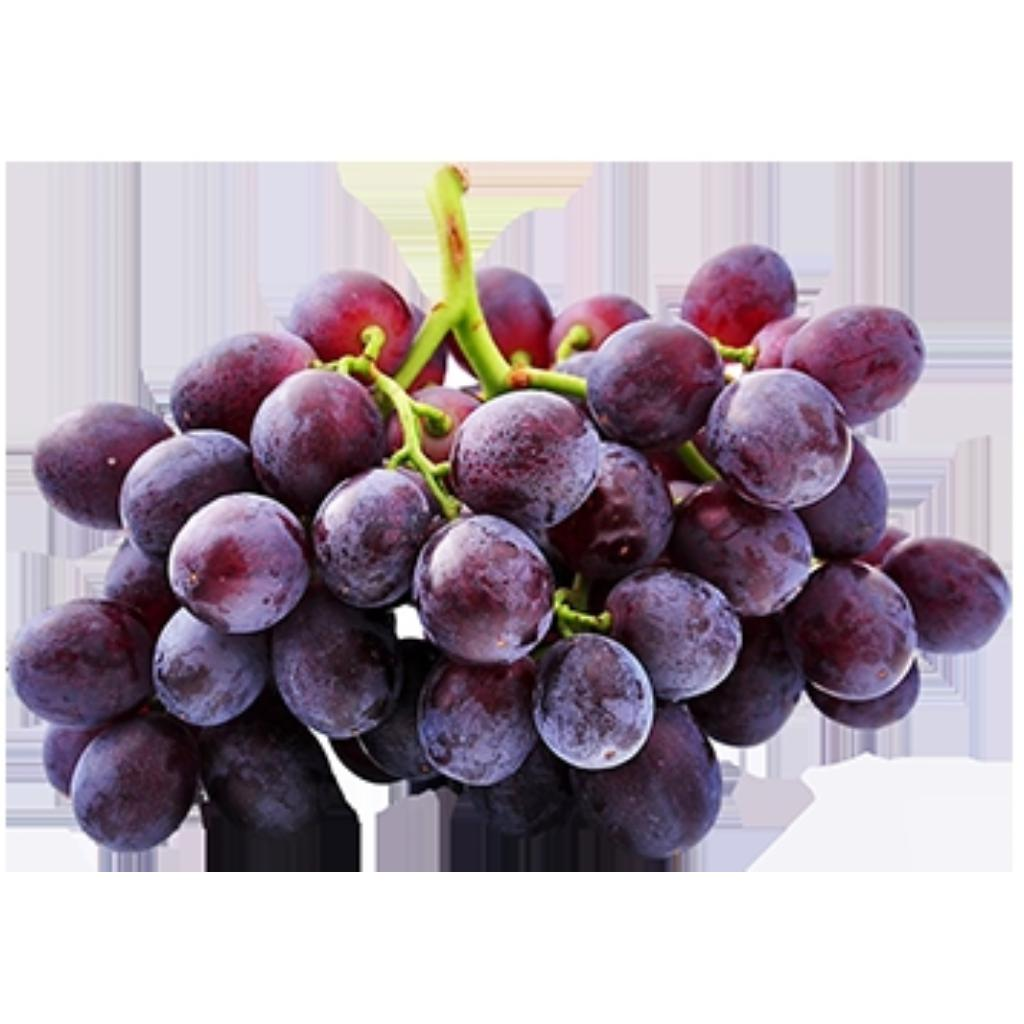grape: (10, 166, 1008, 857)
